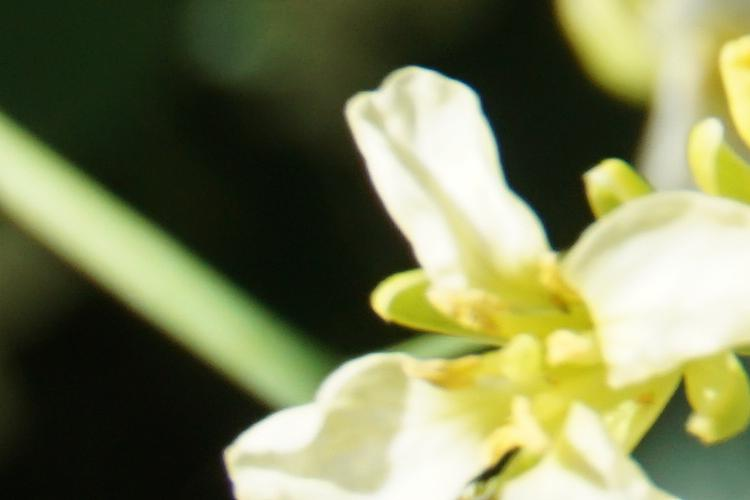white: (208, 69, 747, 495)
